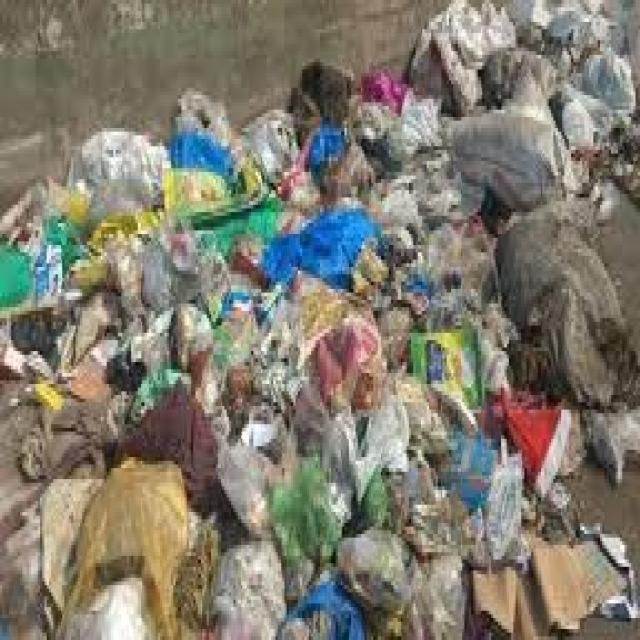heap: (52, 217, 563, 637)
